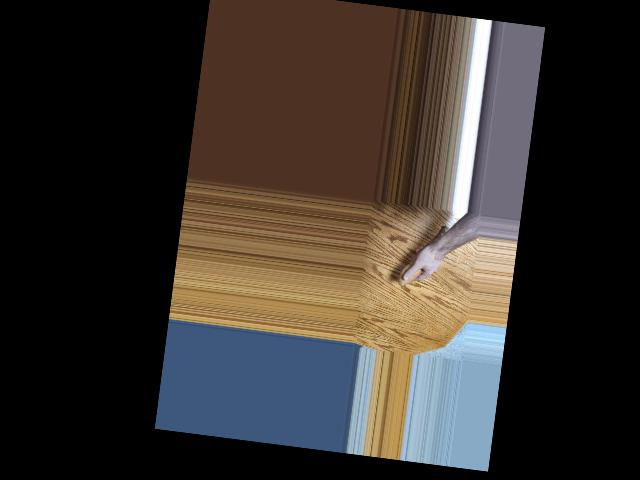sweet_potato: (397, 218, 450, 291)
